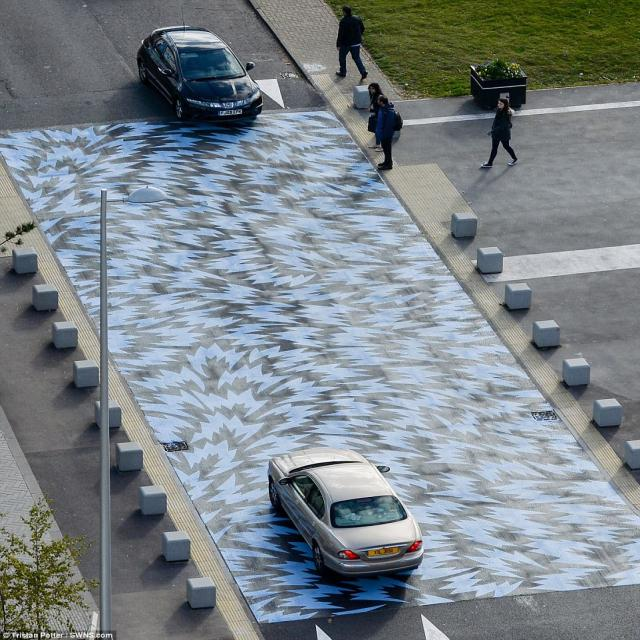body: (478, 96, 521, 169), (334, 2, 369, 84), (373, 92, 406, 172), (366, 82, 384, 153)
